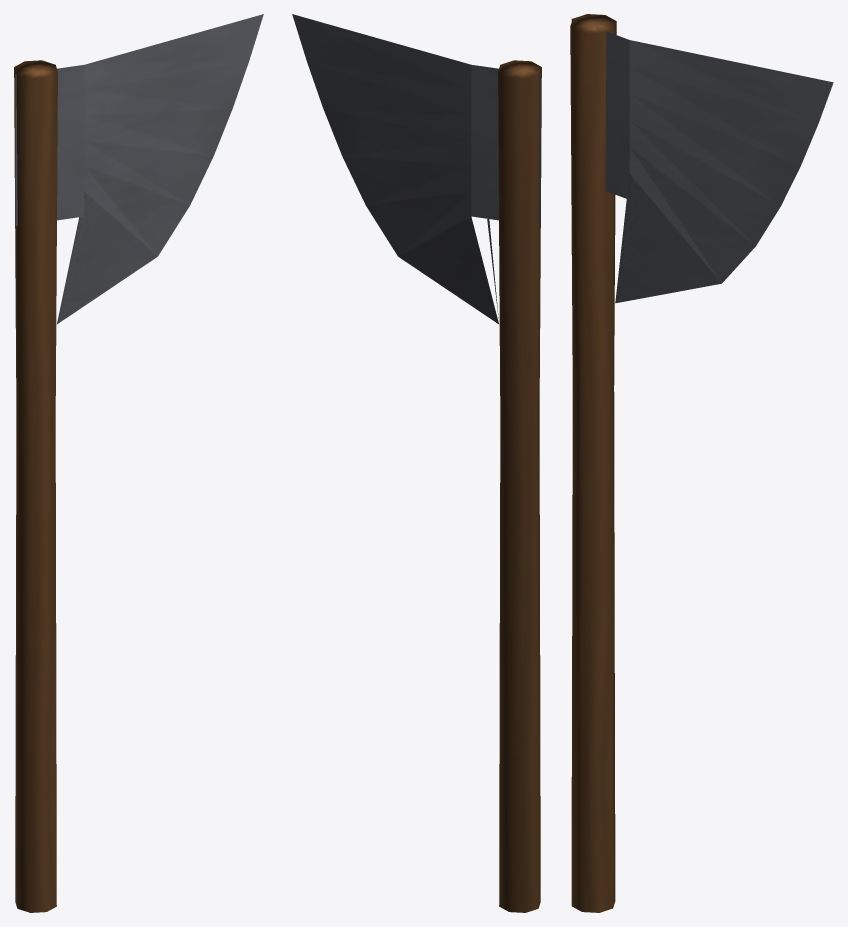
Rendered from hache-viking.glb.
The picture shows the model from 3 angles, left to right: view 1: azimuth 30°, elevation 25°; view 2: azimuth 150°, elevation 25°; view 3: azimuth 330°, elevation 25°; orthographic projection. The views are drawn at different scales.
Parts seen in each view (by area): view 1: hache-viking; view 2: hache-viking; view 3: hache-viking.
Boxes of the visible parts, x1,y1,x2,y2 form: hache-viking: [14, 14, 263, 912]; hache-viking: [292, 14, 541, 912]; hache-viking: [570, 14, 833, 912].
Bounding box in the file's own units: 0.24 × 0.77 × 0.038.
1 material, 1 textured.
